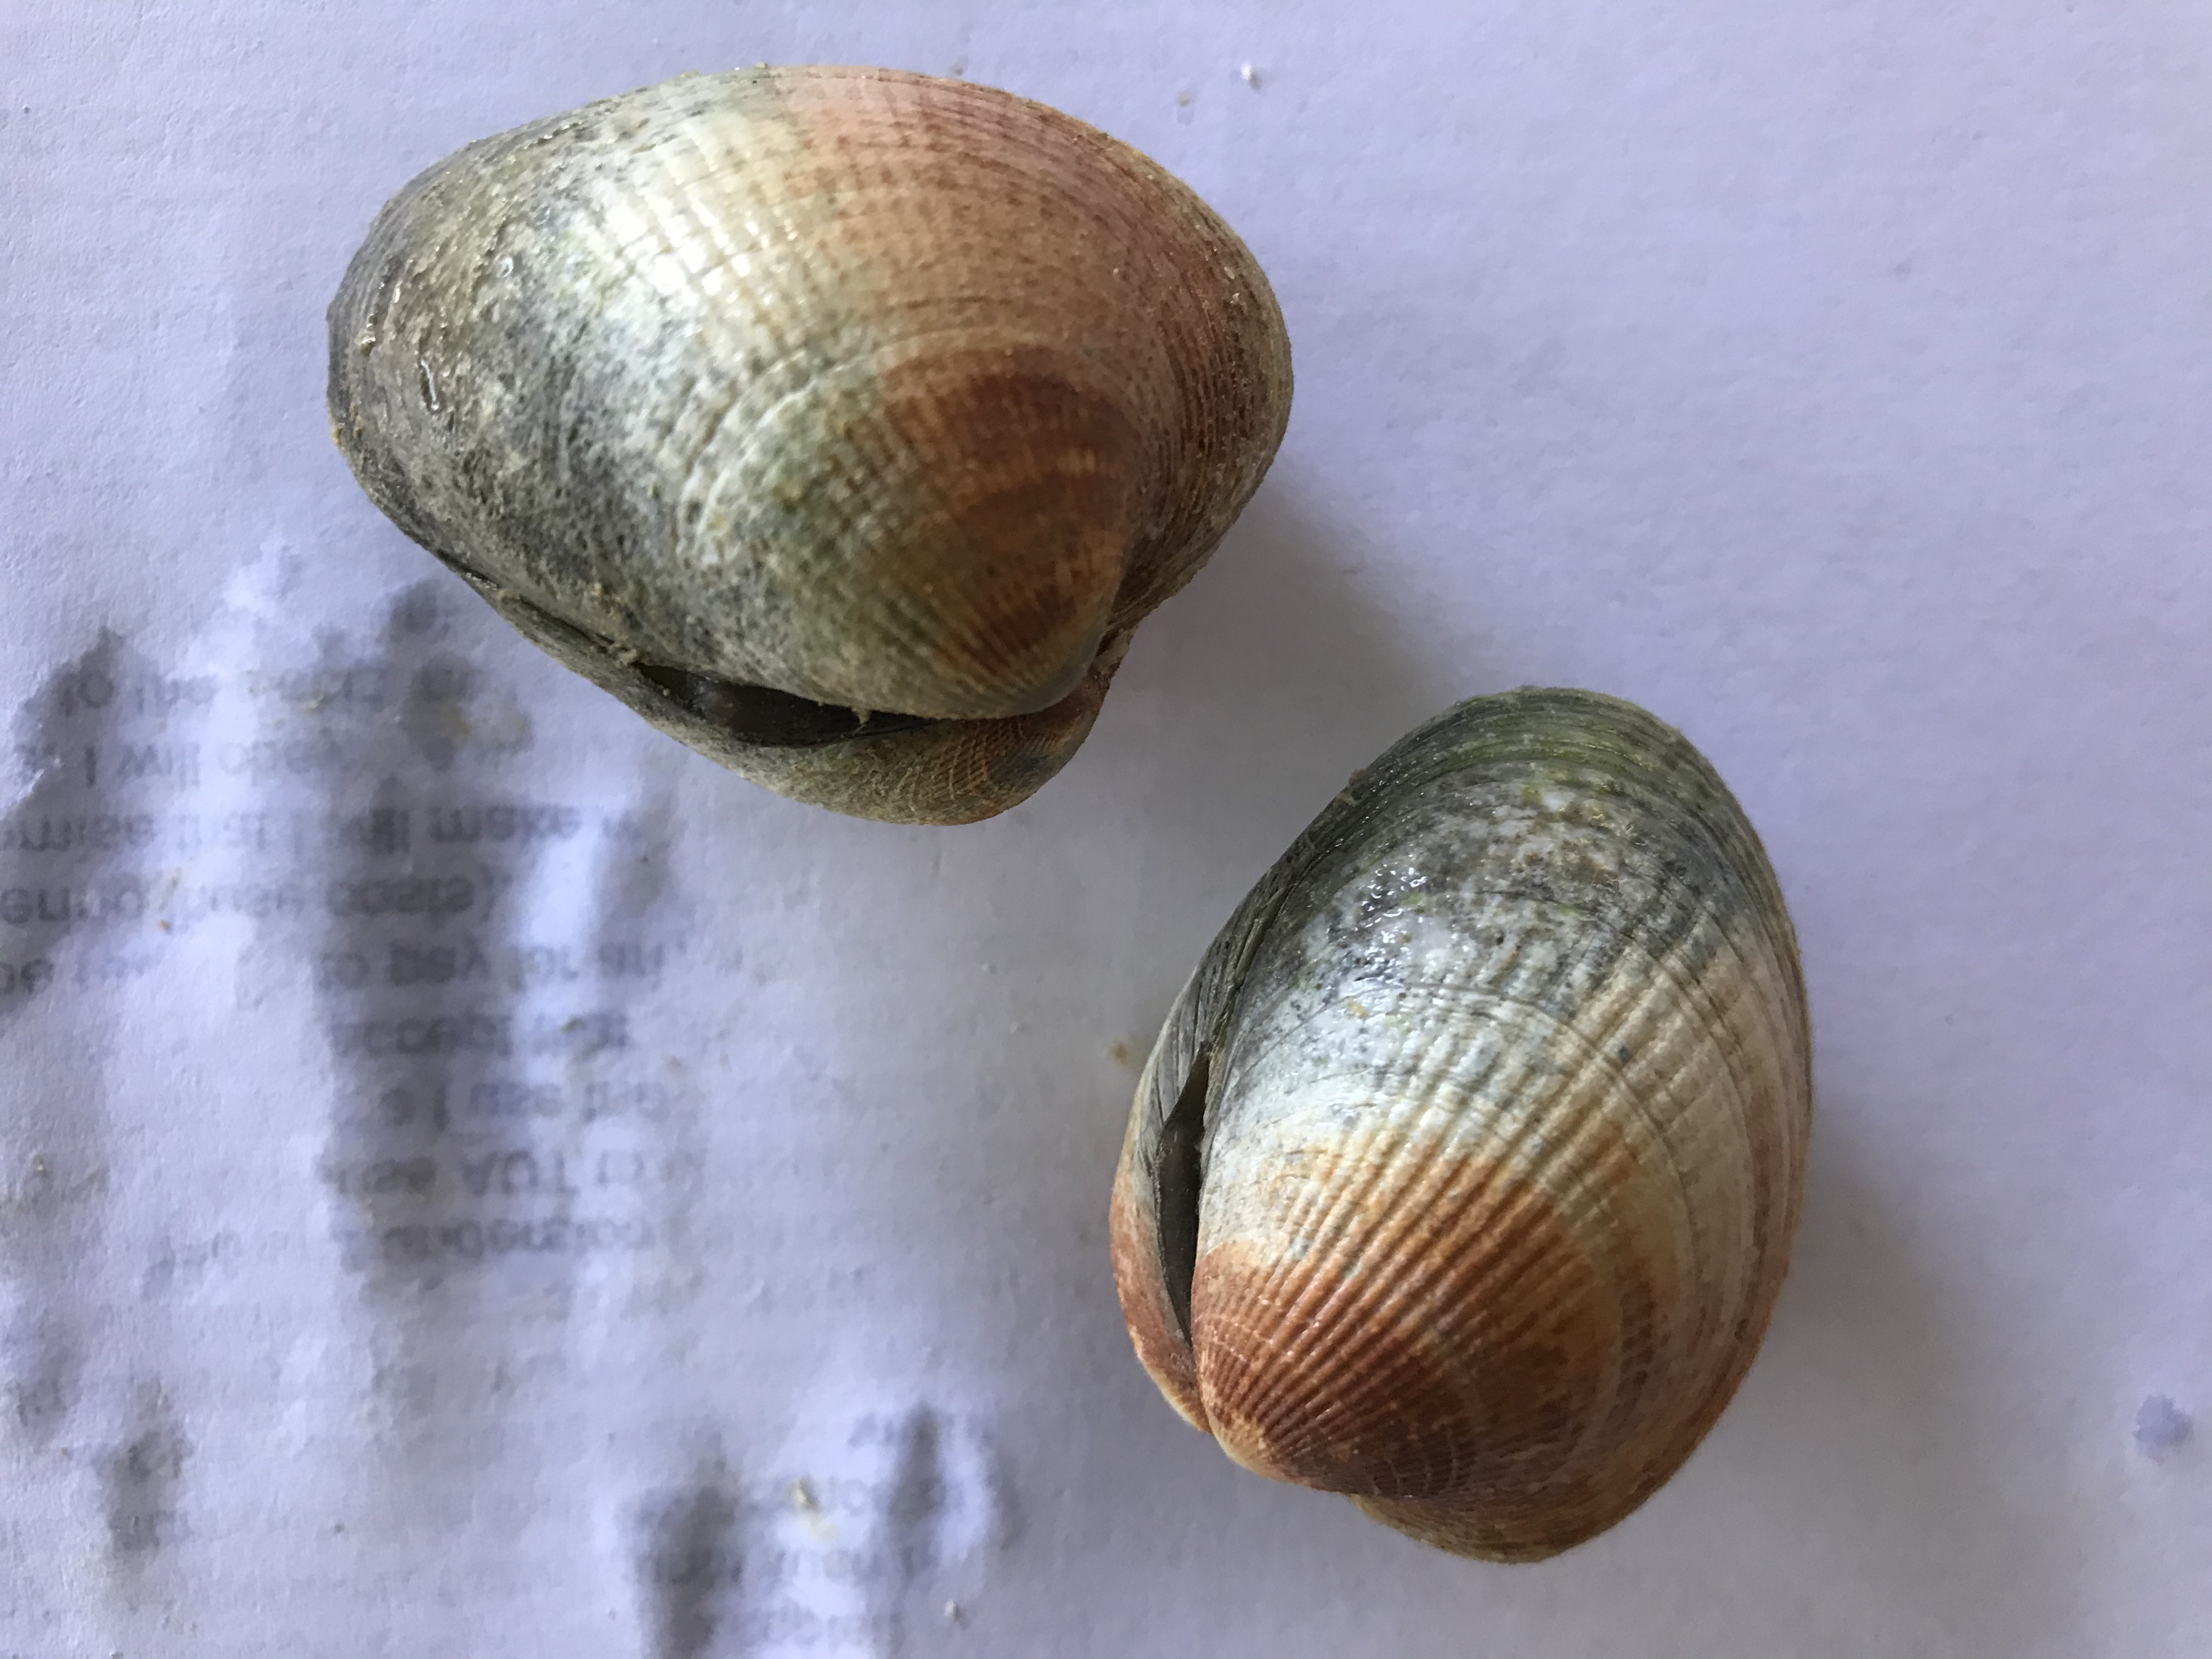cockle: (319, 64, 1305, 821), (1103, 680, 1822, 1570)
